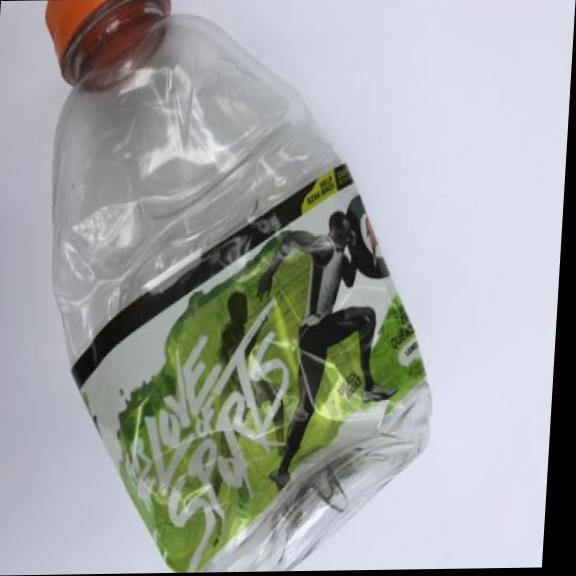Plastik: (2, 0, 458, 575)
